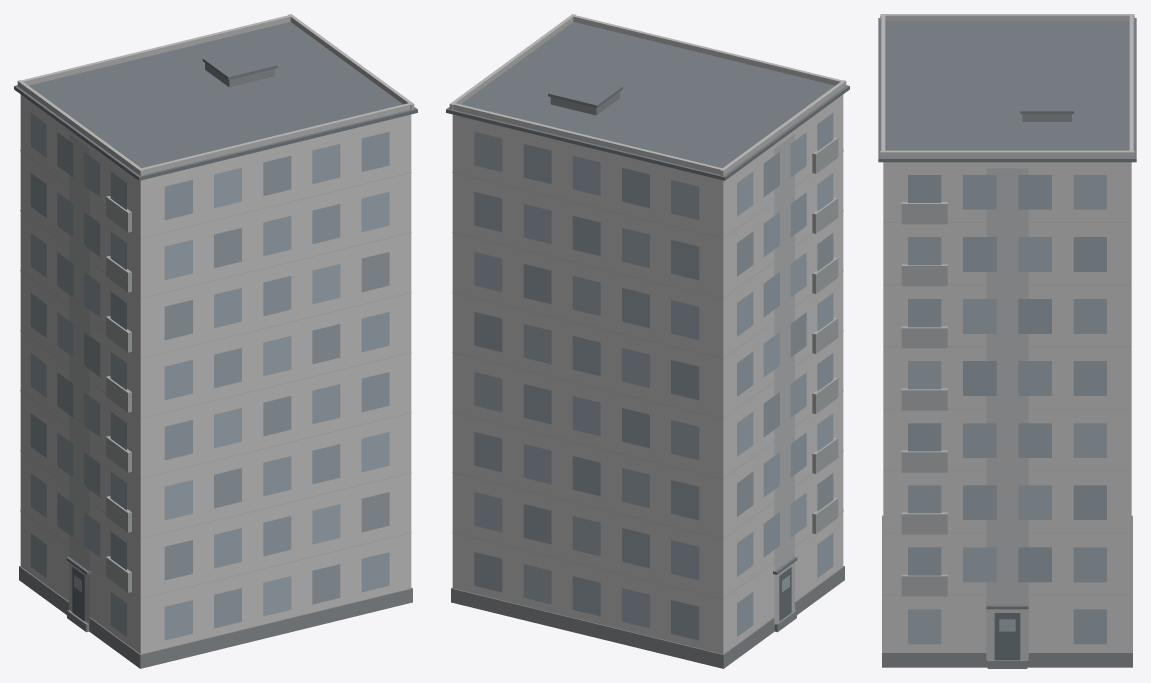
The model's file is block_7.glb.
3 renders of one model, left to right at view 1: azimuth 30°, elevation 25°; view 2: azimuth 150°, elevation 25°; view 3: azimuth 270°, elevation 25°, orthographic. The views are drawn at different scales.
Parts seen in each view (by area): view 1: block_7; view 2: block_7; view 3: block_7.
Part boxes in pixels (bbox=[...]): block_7: bbox=[14, 14, 417, 668]; block_7: bbox=[446, 14, 849, 668]; block_7: bbox=[878, 14, 1136, 668].
Bounding box in the file's own units: 13.4 × 23.17 × 10.4.
